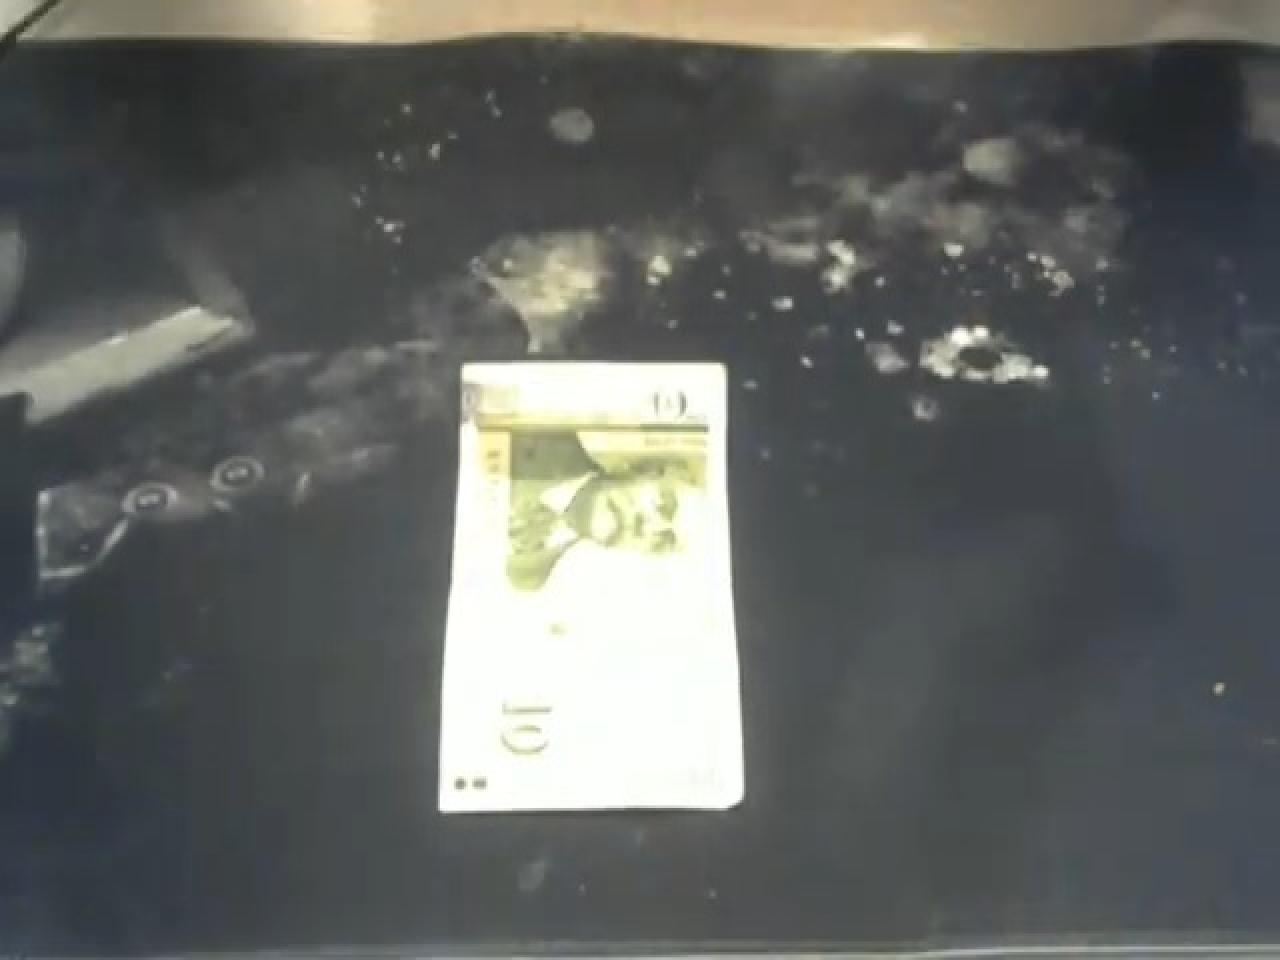10leva: (432, 357, 750, 819)
